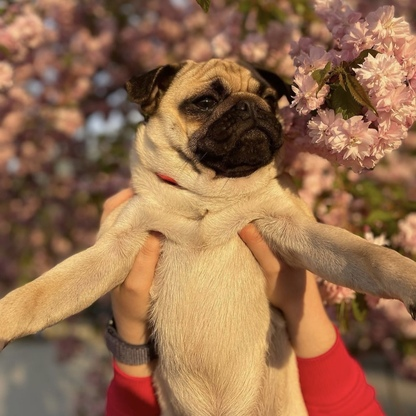Pug: (1, 51, 416, 416)
